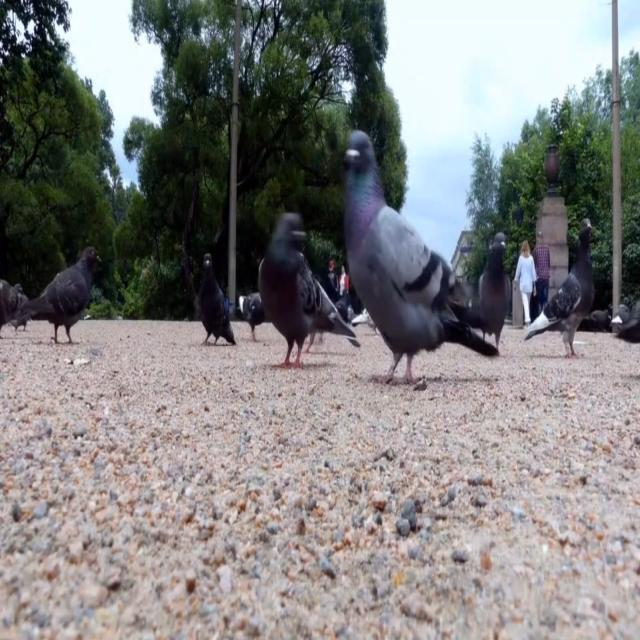bird: (345, 123, 489, 451), (252, 202, 354, 397), (532, 211, 598, 371), (35, 239, 111, 362), (474, 213, 517, 366), (195, 249, 241, 367), (0, 272, 37, 353), (235, 280, 278, 347), (342, 300, 388, 346), (618, 303, 640, 364)
